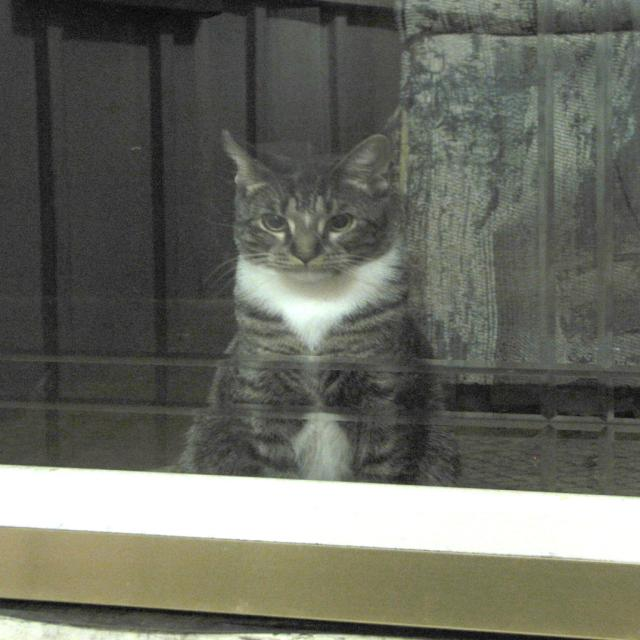Cat: (154, 128, 466, 489)
